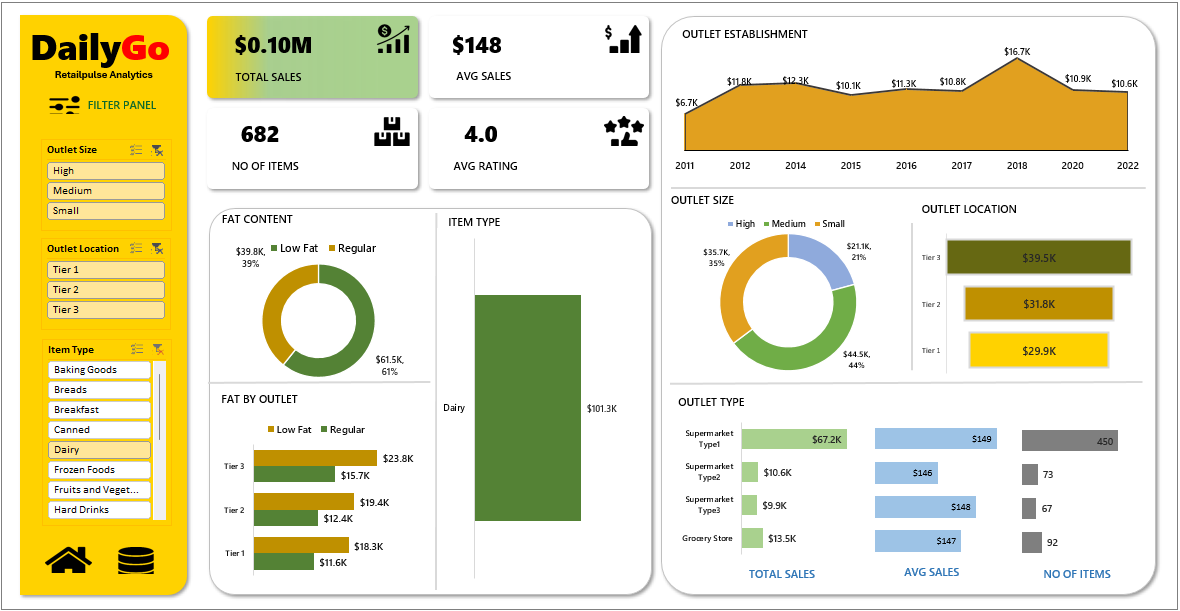

The dashboard page shown, as its layout file describes it:
{"tool":"powerbi","page":{"name":"Page 1","canvas":[1400,800],"ordinal":0},"visuals":[{"type":"shape","box":[777.5,0,622.5,798.8],"z":0},{"type":"shape","box":[0,0,205.1,798.7],"z":1000},{"type":"textbox","box":[9,77,170,19],"z":2000},{"type":"textbox","box":[8.9,10.1,186.1,67.1],"z":3000},{"type":"textbox","box":[53.2,73.4,125.3,24.1],"z":4000},{"type":"cardVisual","fields":{"Data":["DailyGo Analysis Data.Total Sales","DailyGo Analysis Data.Avg Sales","DailyGo Analysis Data.No Of Items","DailyGo Analysis Data.Avg Rating"]},"box":[205,10,572.5,245],"z":6000},{"type":"image","box":[425,35,50,50],"z":7000},{"type":"image","box":[425,152.5,50,50],"z":8000},{"type":"image","box":[700,152.5,50,50],"z":9000},{"type":"image","box":[700,35,50,50],"z":10000},{"type":"shape","box":[205,241.2,583.8,557.5],"z":11000},{"type":"donutChart","title":"FAT CONTENT","fields":{"Category":["DailyGo Analysis Data.Item Fat Content"],"Y":["DailyGo Analysis Data.Total Sales"]},"box":[216.2,352.5,243.8,181.2],"z":12000},{"type":"slicer","fields":{"Values":["Metrics 2.Metrics"]},"box":[236.2,255,508.8,40],"z":13000},{"type":"clusteredBarChart","title":"FAT OUTLET","fields":{"Category":["DailyGo Analysis Data.Outlet Location Type"],"Series":["DailyGo Analysis Data.Item Fat Content"],"Y":["DailyGo Analysis Data.Total Sales"]},"box":[1066.2,253.8,316.2,243.8],"z":14000},{"type":"shape","box":[216.2,525,243.8,21.2],"z":15000},{"type":"shape","box":[1052.5,253.8,13.8,243.8],"z":16000},{"type":"barChart","title":"ITEM TYPE","fields":{"Category":["DailyGo Analysis Data.Item Type"],"Y":["DailyGo Analysis Data.Total Sales"]},"box":[462.5,306.2,298.8,478.8],"z":17000},{"type":"lineChart","title":"OUTLET ESTABLISHMENT","fields":{"Category":["DailyGo Analysis Data.Outlet Establishment Year"],"Y":["DailyGo Analysis Data.Total Sales"]},"box":[788.8,18.8,593.8,222.5],"z":18000},{"type":"shape","box":[788.8,241.2,593.8,17.5],"z":19000},{"type":"donutChart","title":"OUTLET SIZE","fields":{"Category":["DailyGo Analysis Data.Outlet Size"],"Y":["DailyGo Analysis Data.Total Sales"]},"box":[788.8,255,263.8,242.5],"z":20000},{"type":"shape","box":[460,305,12.5,490],"z":21000},{"type":"funnel","title":"OUTLET LOCATION","fields":{"Category":["DailyGo Analysis Data.Outlet Location Type"],"Y":["Sum(DailyGo Analysis Data.Sales)"]},"box":[216.2,546.2,243.8,238.8],"z":22000},{"type":"shape","box":[788.8,497.5,593.8,16.2],"z":23000},{"type":"pivotTable","title":"OUTLET TYPE","fields":{"Rows":["DailyGo Analysis Data.Outlet Type"],"Values":["DailyGo Analysis Data.Total Sales","DailyGo Analysis Data.Avg Sales","DailyGo Analysis Data.No Of Items","DailyGo Analysis Data.Avg Rating","Sum(DailyGo Analysis Data.Item Visibility)"]},"box":[788.8,513.8,593.8,262.5],"z":24000},{"type":"slicer","fields":{"Values":["DailyGo Analysis Data.Outlet Location Type"]},"box":[13.8,258.8,176.2,77.5],"z":25000},{"type":"slicer","fields":{"Values":["DailyGo Analysis Data.Outlet Size"]},"box":[13.8,342.5,176.2,77.5],"z":26000},{"type":"slicer","fields":{"Values":["DailyGo Analysis Data.Item Type"]},"box":[13.8,420,176.2,77.5],"z":27000},{"type":"textbox","box":[13.8,202.5,176.2,27.5],"z":27001},{"type":"image","box":[8.8,742.5,50,42.5],"z":27002}]}

Visuals, with their boxes on the page's 1400x800 design canvas (x1, y1, x2, y2). These are canvas units, not pixel positions in the 1180x611 screenshot, which may show the page scaled, cropped or inside an application window:
shape: rect(778, 0, 1400, 799)
shape: rect(0, 0, 205, 799)
textbox: rect(9, 77, 179, 96)
textbox: rect(9, 10, 195, 77)
textbox: rect(53, 73, 178, 98)
cardVisual - DailyGo Analysis Data.Total Sales x DailyGo Analysis Data.Avg Sales: rect(205, 10, 778, 255)
image: rect(425, 35, 475, 85)
image: rect(425, 152, 475, 202)
image: rect(700, 152, 750, 202)
image: rect(700, 35, 750, 85)
shape: rect(205, 241, 789, 799)
"FAT CONTENT" donutChart: rect(216, 352, 460, 534)
slicer - Metrics 2.Metrics: rect(236, 255, 745, 295)
"FAT OUTLET" clusteredBarChart: rect(1066, 254, 1382, 498)
shape: rect(216, 525, 460, 546)
shape: rect(1052, 254, 1066, 498)
"ITEM TYPE" barChart: rect(462, 306, 761, 785)
"OUTLET ESTABLISHMENT" lineChart: rect(789, 19, 1383, 241)
shape: rect(789, 241, 1383, 259)
"OUTLET SIZE" donutChart: rect(789, 255, 1053, 498)
shape: rect(460, 305, 472, 795)
"OUTLET LOCATION" funnel: rect(216, 546, 460, 785)
shape: rect(789, 498, 1383, 514)
"OUTLET TYPE" pivotTable: rect(789, 514, 1383, 776)
slicer - DailyGo Analysis Data.Outlet Location Type: rect(14, 259, 190, 336)
slicer - DailyGo Analysis Data.Outlet Size: rect(14, 342, 190, 420)
slicer - DailyGo Analysis Data.Item Type: rect(14, 420, 190, 498)
textbox: rect(14, 202, 190, 230)
image: rect(9, 742, 59, 785)
